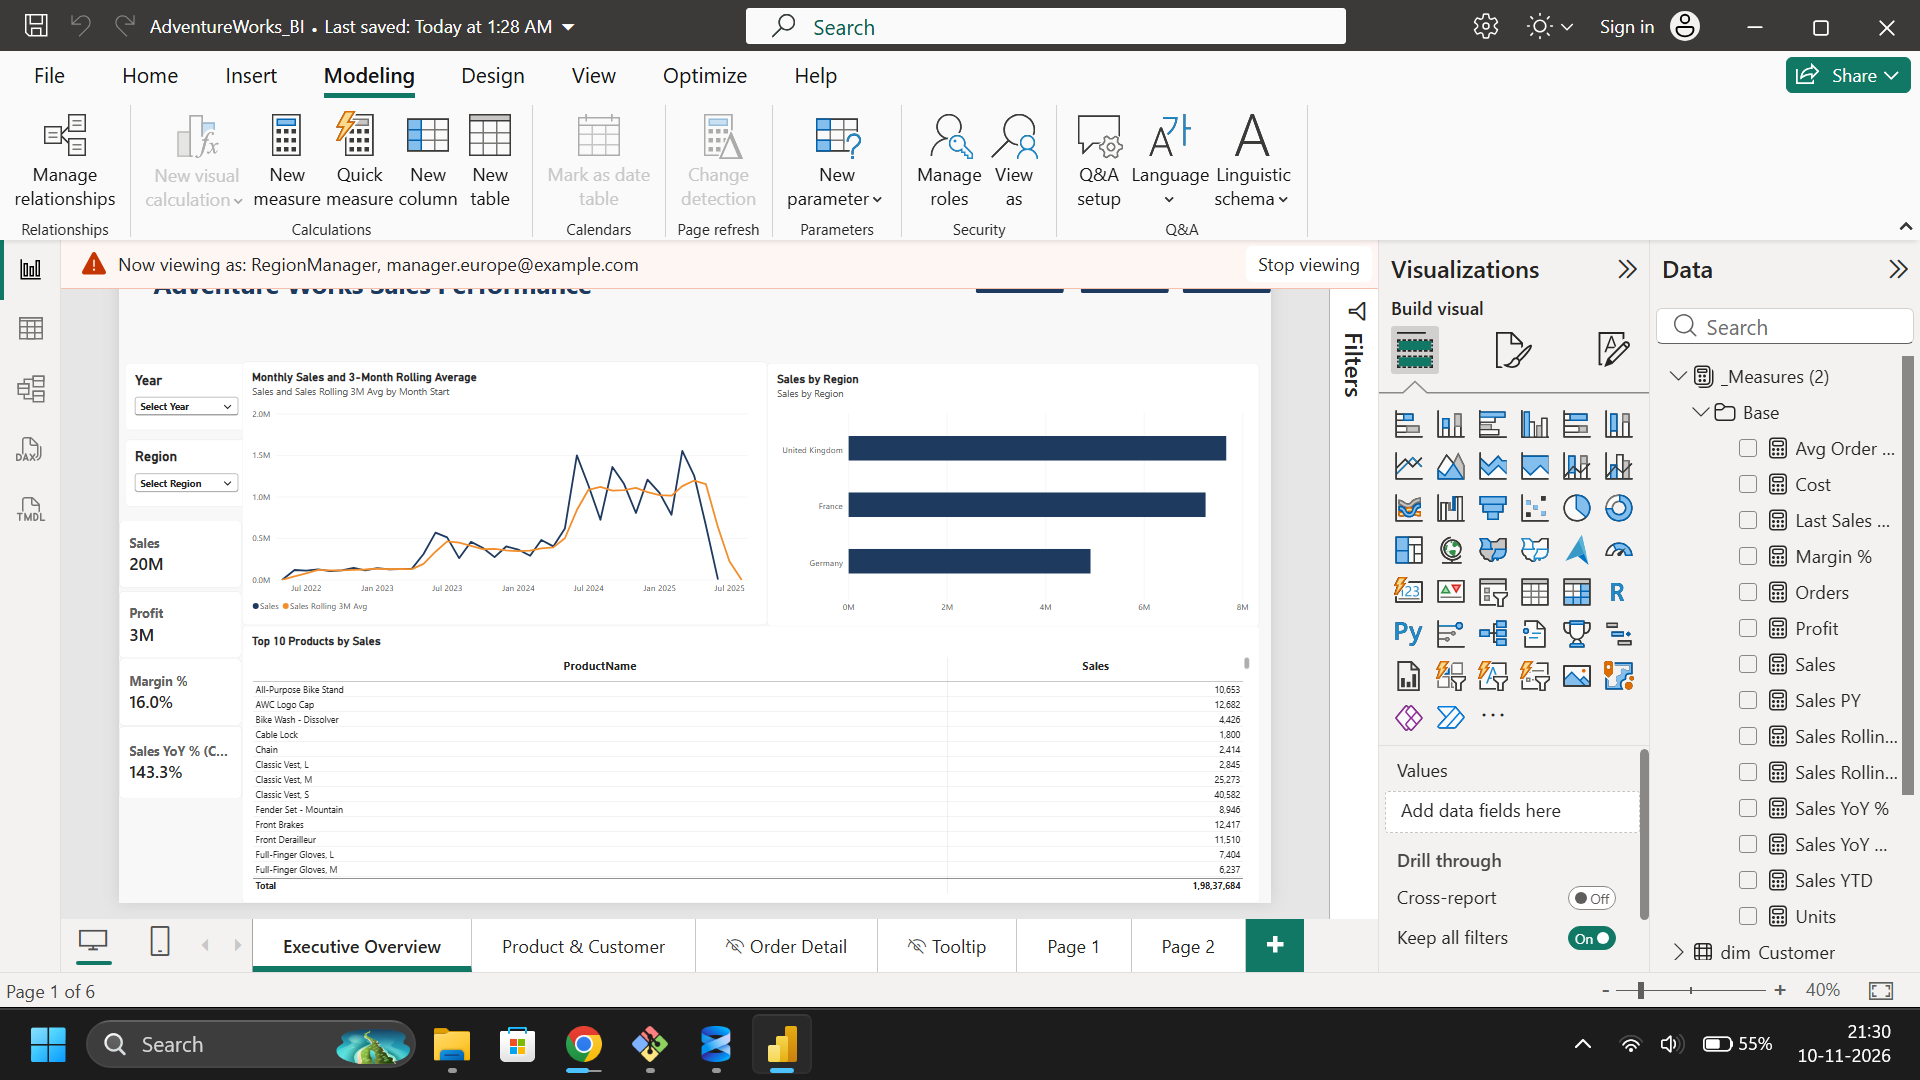

This screenshot's page, from the dashboard's own definition file:
{"tool":"powerbi","page":{"name":"Executive Overview","canvas":[1920,1080],"ordinal":0},"visuals":[{"type":"textbox","box":[9.5,0,1911.1,126.5],"z":0},{"type":"listSlicer","fields":{"Values":["dim_Date.Year"]},"box":[9.5,178.9,205.2,112.1],"z":1000},{"type":"listSlicer","fields":{"Values":["dim_Territory.Region"]},"box":[9.5,307.8,205,112],"z":2000},{"type":"cardVisual","fields":{"Data":["_Measures (2).Sales"]},"box":[0,441.4,205.2,112],"z":3000},{"type":"cardVisual","fields":{"Data":["_Measures (2).Profit"]},"box":[0,560.7,204.9,112],"z":4000},{"type":"cardVisual","fields":{"Data":["_Measures (2).Margin %"]},"box":[0,672.8,204.9,112],"z":5000},{"type":"cardVisual","fields":{"Data":["_Measures (2).Sales YoY % (Comparable)"]},"box":[0,785,205.2,121.7],"z":6000},{"type":"lineChart","title":"Monthly Sales and 3-Month Rolling Average","fields":{"Category":["dim_Date.Month Start"],"Y":["_Measures (2).Sales","_Measures (2).Sales Rolling 3M Avg"]},"box":[205.2,176.6,875.6,439],"z":7000},{"type":"clusteredBarChart","title":"Sales by Region","fields":{"Category":["dim_Territory.Region"],"Y":["_Measures (2).Sales"]},"box":[1080.8,178.9,820.8,439],"z":8000},{"type":"tableEx","title":"Top 10 Products by Sales","fields":{"Values":["dim_Product.ProductName","_Measures (2).Sales"]},"box":[205.2,618,1696.4,462.9],"z":9000},{"type":"actionButton","box":[1426.8,0,147.3,63.6],"z":10000},{"type":"actionButton","box":[1603.3,0,147.3,63.6],"z":11000},{"type":"actionButton","box":[1772.7,0,147.3,63.6],"z":12000}]}

Visuals, with their boxes on the page's 1920x1080 design canvas (x1, y1, x2, y2). These are canvas units, not pixel positions in the 1920x1080 screenshot, which may show the page scaled, cropped or inside an application window:
textbox: select_region(10, 0, 1921, 126)
listSlicer - dim_Date.Year: select_region(10, 179, 215, 291)
listSlicer - dim_Territory.Region: select_region(10, 308, 214, 420)
cardVisual - _Measures (2).Sales: select_region(0, 441, 205, 553)
cardVisual - _Measures (2).Profit: select_region(0, 561, 205, 673)
cardVisual - _Measures (2).Margin %: select_region(0, 673, 205, 785)
cardVisual - _Measures (2).Sales YoY % (Comparable): select_region(0, 785, 205, 907)
"Monthly Sales and 3-Month Rolling Average" lineChart: select_region(205, 177, 1081, 616)
"Sales by Region" clusteredBarChart: select_region(1081, 179, 1902, 618)
"Top 10 Products by Sales" tableEx: select_region(205, 618, 1902, 1081)
actionButton: select_region(1427, 0, 1574, 64)
actionButton: select_region(1603, 0, 1751, 64)
actionButton: select_region(1773, 0, 1920, 64)
